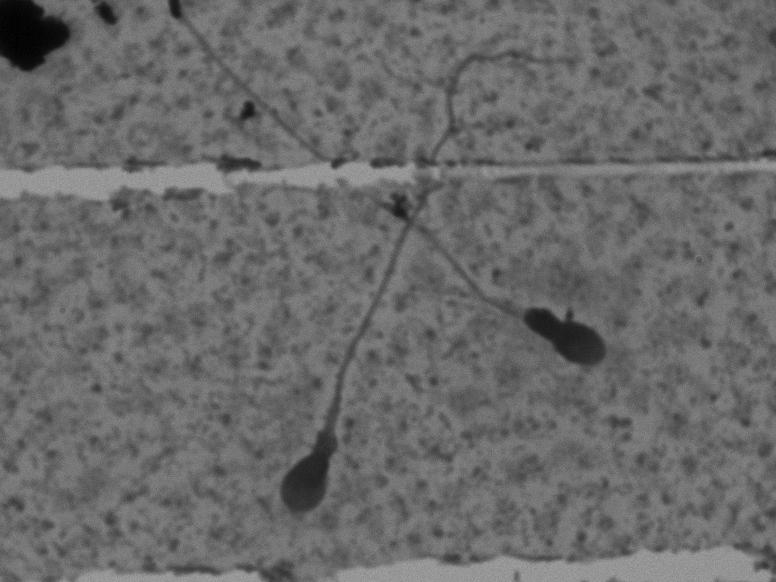Abnormal: (169, 14, 624, 389), (251, 38, 597, 531)
